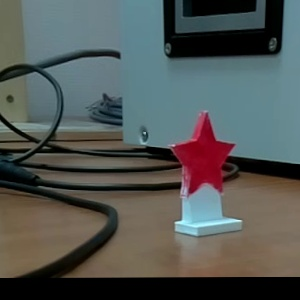star: (149, 105, 256, 241)
